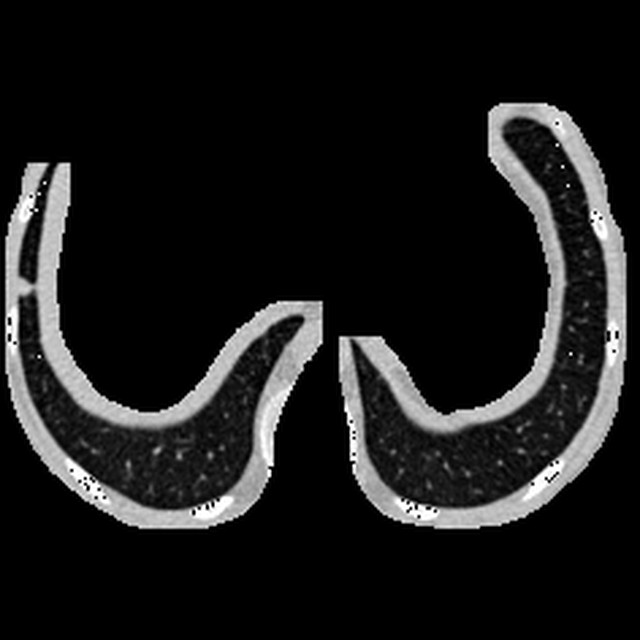PN: (11, 277, 33, 298)
